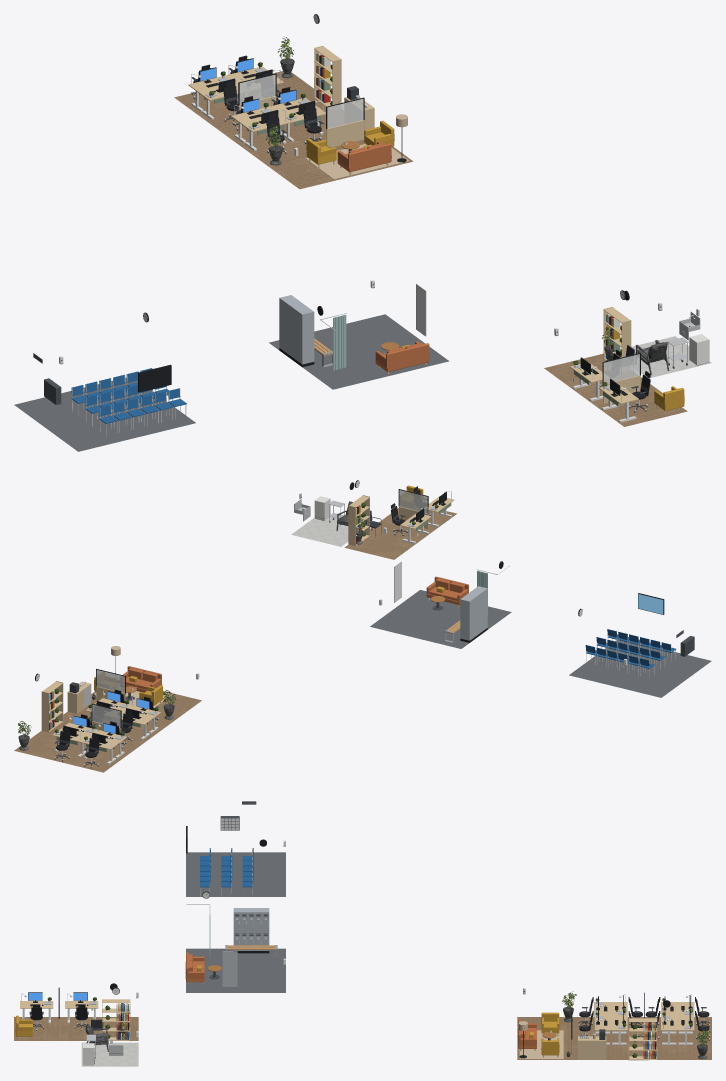
The model's file is 18_n2_academico_y_oficinas.glb.
3 renders of one model, top to bottom at view 1: azimuth 30°, elevation 25°; view 2: azimuth 150°, elevation 25°; view 3: azimuth 270°, elevation 25°, orthographic. The views are drawn at different scales.
Parts seen in each view (by area): view 1: piso · Multioficinas y cubículos · 12 puestos compartidos, piso · Sala de espera y aislamiento OSCE, piso · Sala de pacientes estandarizados · vestidor y estar, mampara_escritorio (×3), escritorio_ergonomico (×4), librero_madera (×2), piso · Coordinación y administración · oficina compartida, sofa_oficina (×2), piso · Lactario, locker_columna, mesa_cafe_oficina, tapete de la zona de descanso (+2 smaller); view 2: piso · Sala de espera y aislamiento OSCE, piso · Multioficinas y cubículos · 12 puestos compartidos, piso · Sala de pacientes estandarizados · vestidor y estar, mampara_escritorio (×3), piso · Coordinación y administración · oficina compartida, librero_madera (×2), sofa_oficina (×2), piso · Lactario, mesa_cafe_oficina, locker_columna, escritorio_ergonomico; view 3: piso · Multioficinas y cubículos · 12 puestos compartidos, piso · Sala de espera y aislamiento OSCE, piso · Sala de pacientes estandarizados · vestidor y estar, librero_madera (×2), piso · Coordinación y administración · oficina compartida, sofa_oficina (×2), piso · Lactario, escritorio_ergonomico (×2), mesa_cafe_oficina, tapete de la zona de descanso, espejo_cuerpo.
Part boxes in pixels (x1,y1,x2,y2): piso · Multioficinas y cubículos · 12 puestos compartidos: (174,71,413,189); piso · Sala de espera y aislamiento OSCE: (14,377,195,451); piso · Sala de pacientes estandarizados · vestidor y estar: (269,314,448,389); mampara_escritorio (×3): (238,73,640,403); escritorio_ergonomico (×4): (188,67,638,422); librero_madera (×2): (314,45,631,371); piso · Coordinación y administración · oficina compartida: (544,353,687,426); sofa_oficina (×2): (337,141,429,374); piso · Lactario: (631,336,711,377); locker_columna: (297,308,314,367); mesa_cafe_oficina: (344,86,374,129); tapete de la zona de descanso: (305,144,409,179); piso · Sala de espera y aislamiento OSCE: (569,639,711,697); piso · Multioficinas y cubículos · 12 puestos compartidos: (14,691,201,772); piso · Sala de pacientes estandarizados · vestidor y estar: (370,590,511,648); mampara_escritorio (×3): (91,489,428,732); piso · Coordinación y administración · oficina compartida: (344,507,456,559); librero_madera (×2): (41,495,370,731); sofa_oficina (×2): (120,576,468,692); piso · Lactario: (291,516,360,546); mesa_cafe_oficina: (67,681,91,713); locker_columna: (460,596,473,642); escritorio_ergonomico: (400,507,431,543); piso · Multioficinas y cubículos · 12 puestos compartidos: (517,1017,711,1059); piso · Sala de espera y aislamiento OSCE: (186,852,285,896); piso · Sala de pacientes estandarizados · vestidor y estar: (186,948,285,992); librero_madera (×2): (101,999,657,1060); piso · Coordinación y administración · oficina compartida: (14,1017,138,1040); sofa_oficina (×2): (185,952,536,1050); piso · Lactario: (81,1042,138,1066); escritorio_ergonomico (×2): (20,992,98,1023); mesa_cafe_oficina: (578,1029,606,1059); tapete de la zona de descanso: (519,1030,563,1058); espejo_cuerpo: (222,951,237,986).
Bounding box in the file's own units: 21.58 × 2.77 × 29.4.
Materials: 52 (11 with a texture image).
